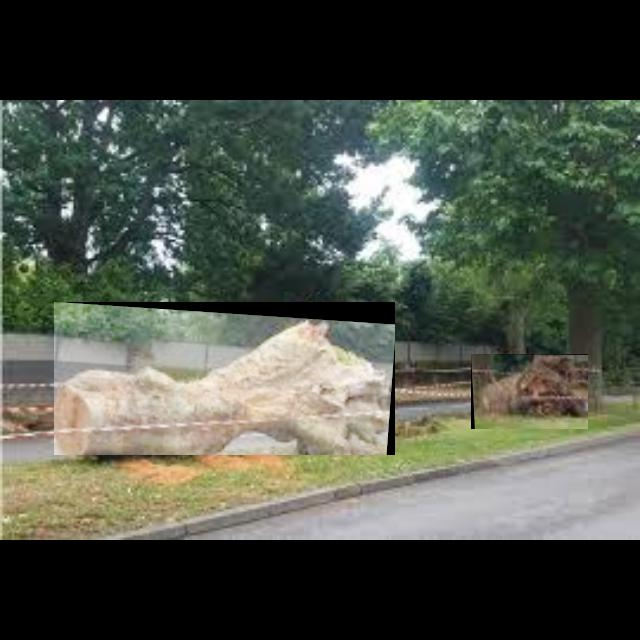Fallen Tree: (54, 302, 396, 456), (471, 354, 589, 430)
